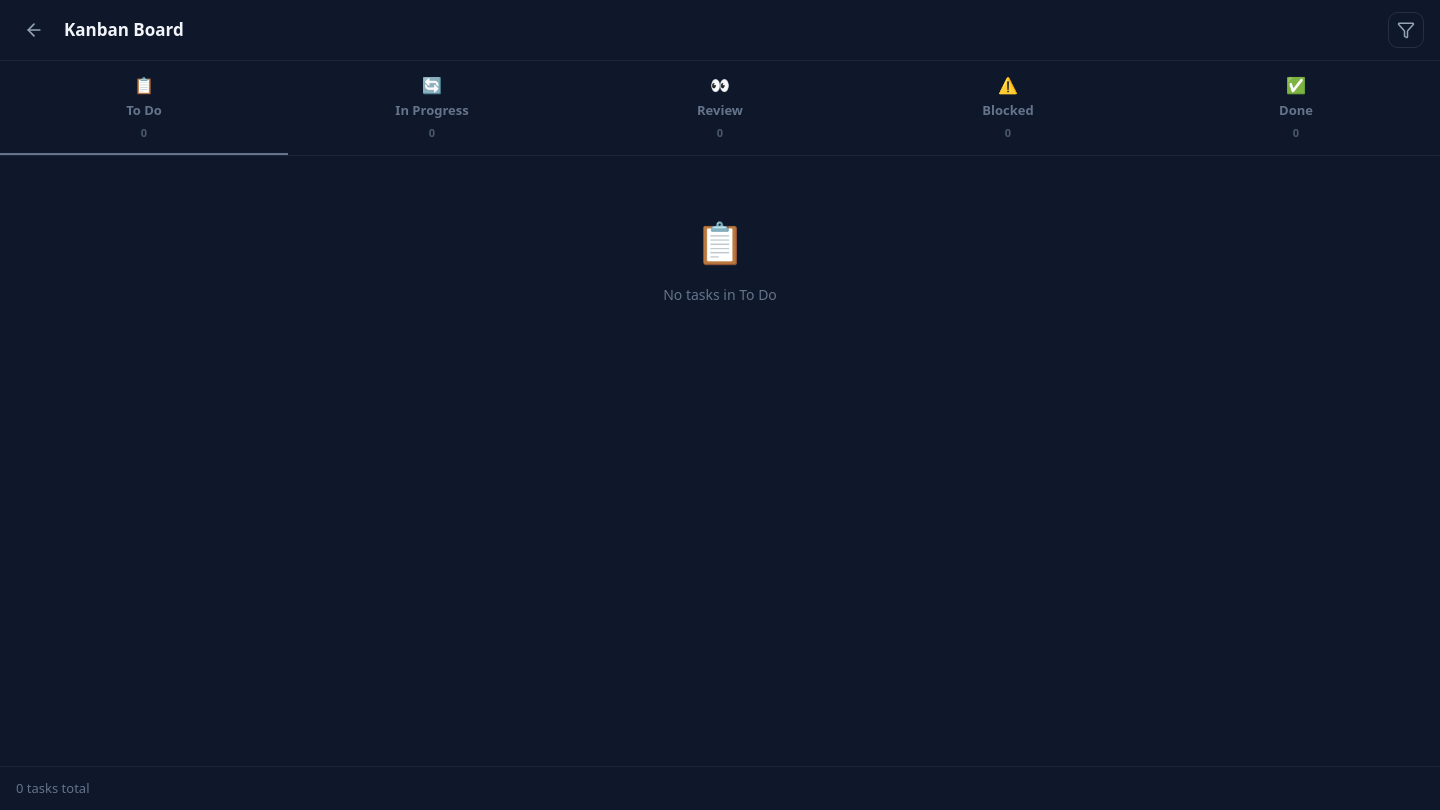
Test case: MobileKanbanPanel › filter sheet › opens filter sheet when Filter button is clicked
Click the button with class "lucide-funnel" at point(1406, 30), box [1388,12,1424,48]
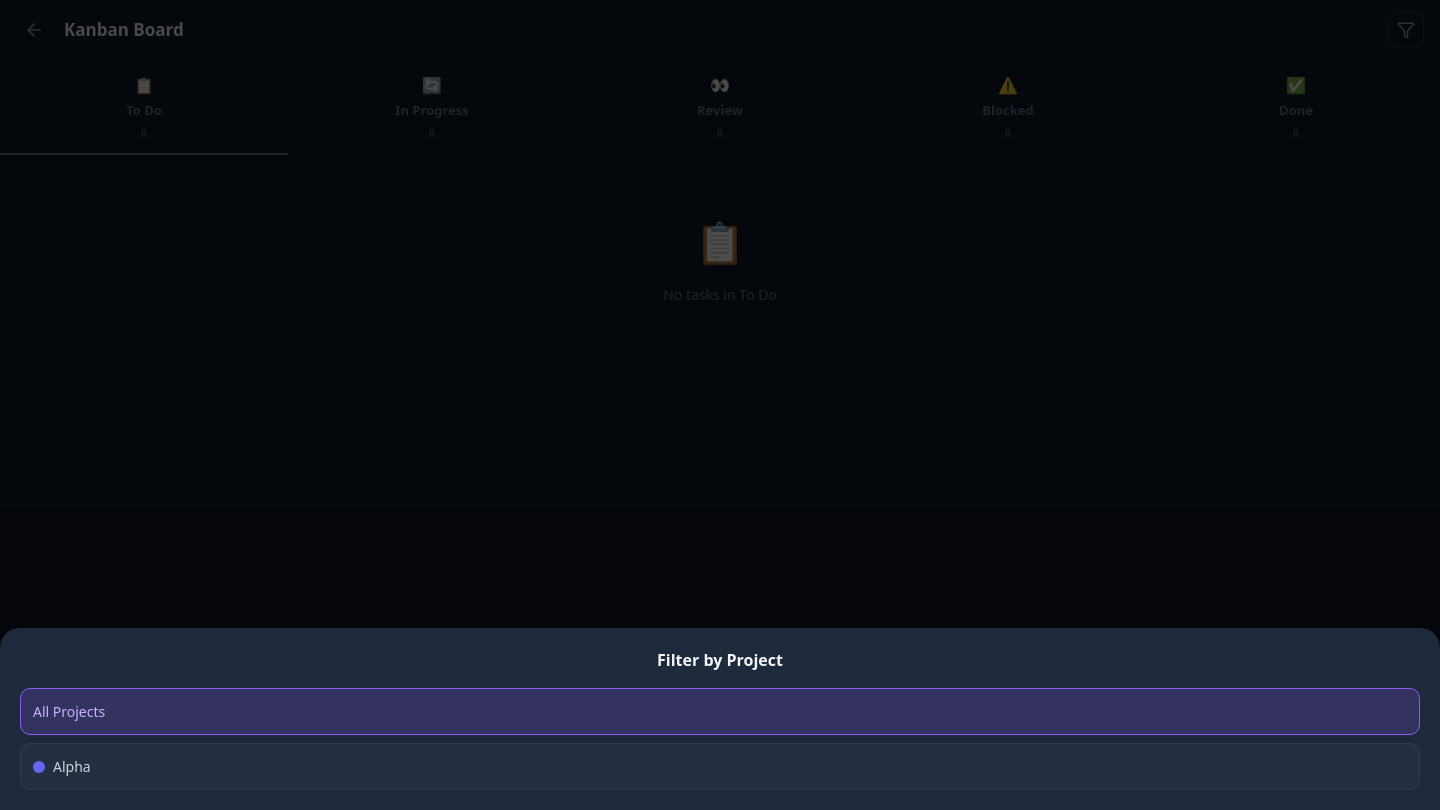
Expected: the heading "Filter by Project" is shown, [657,649,783,671]
